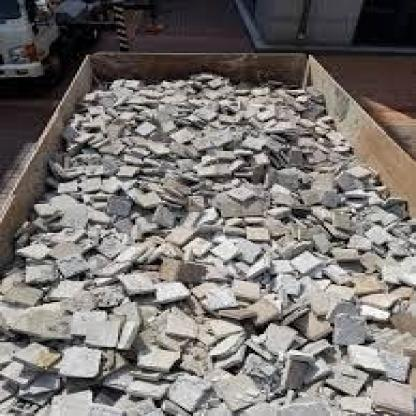brick: (0, 72, 414, 414)
